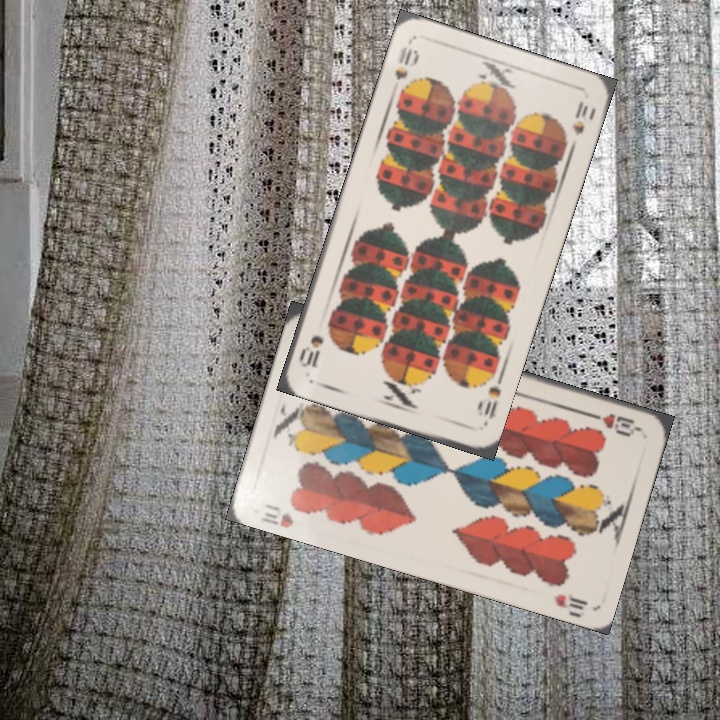H10: (585, 408, 643, 439), (257, 500, 297, 530)
S10: (390, 42, 422, 83), (479, 382, 504, 429)
